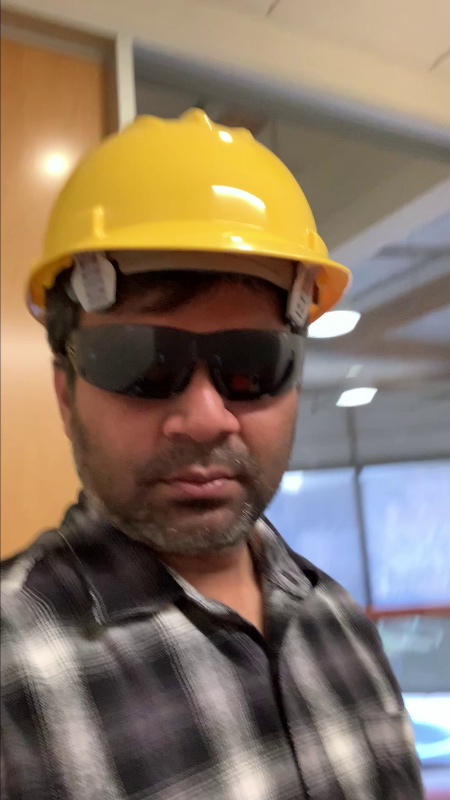glasses: (54, 324, 306, 395)
helmet: (33, 111, 341, 271)
